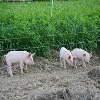heo: (3, 49, 34, 75), (73, 45, 94, 68), (56, 47, 75, 69)
